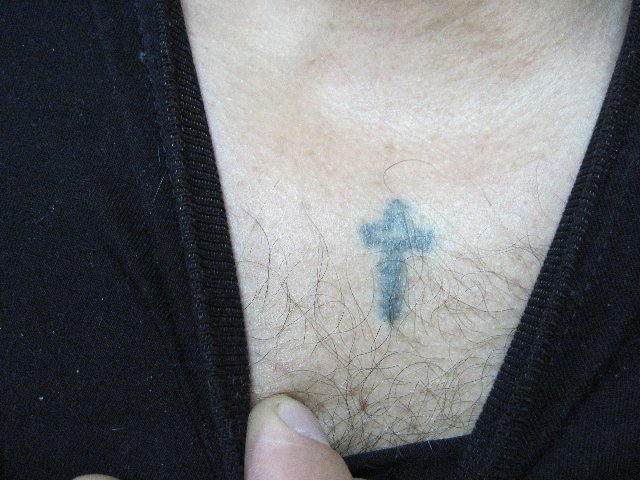tatu9_krest: (353, 193, 439, 319)
